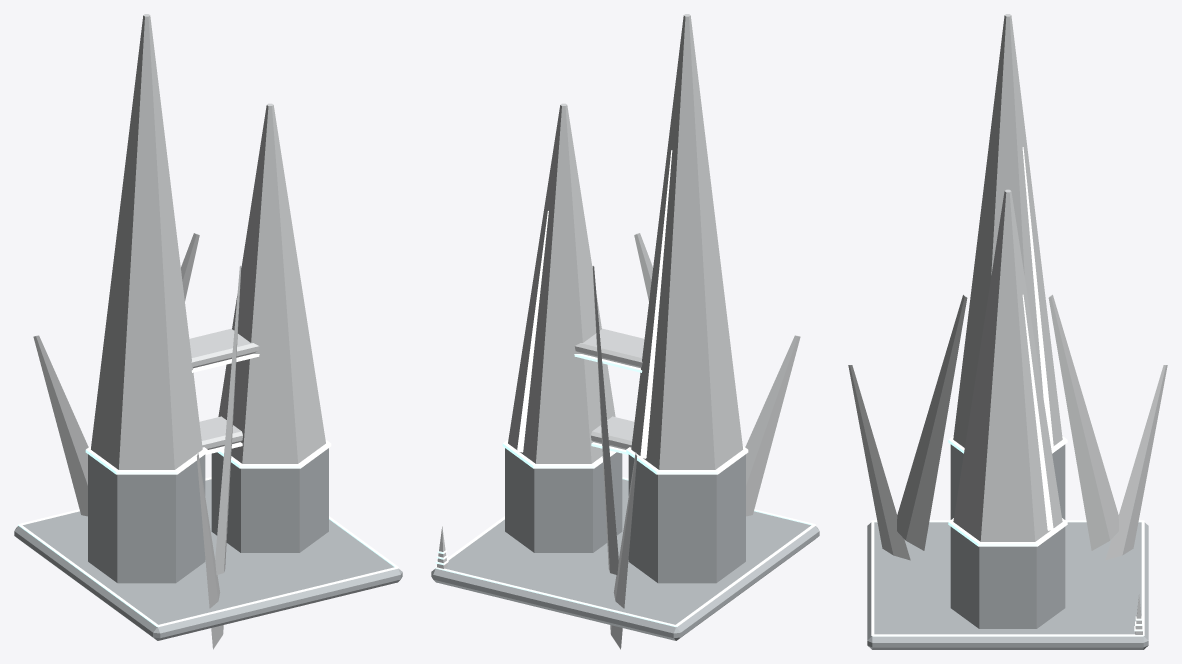
The model's file is zone_high_3_t3.glb.
3 renders of one model, left to right at view 1: azimuth 30°, elevation 25°; view 2: azimuth 150°, elevation 25°; view 3: azimuth 270°, elevation 25°, orthographic. The views are drawn at different scales.
Visible parts, largest first — view 1: zone_high_3_t3, detail; view 2: zone_high_3_t3, detail; view 3: zone_high_3_t3, detail.
Part boxes in pixels (x1,y1,x2,y2): zone_high_3_t3: (14,14,402,649); detail: (18,477,398,627); zone_high_3_t3: (431,14,819,649); detail: (435,477,815,627); zone_high_3_t3: (848,14,1167,649); detail: (871,520,1144,636).
Size of the model in its own units: 27.5 by 62.41 by 31.19.
